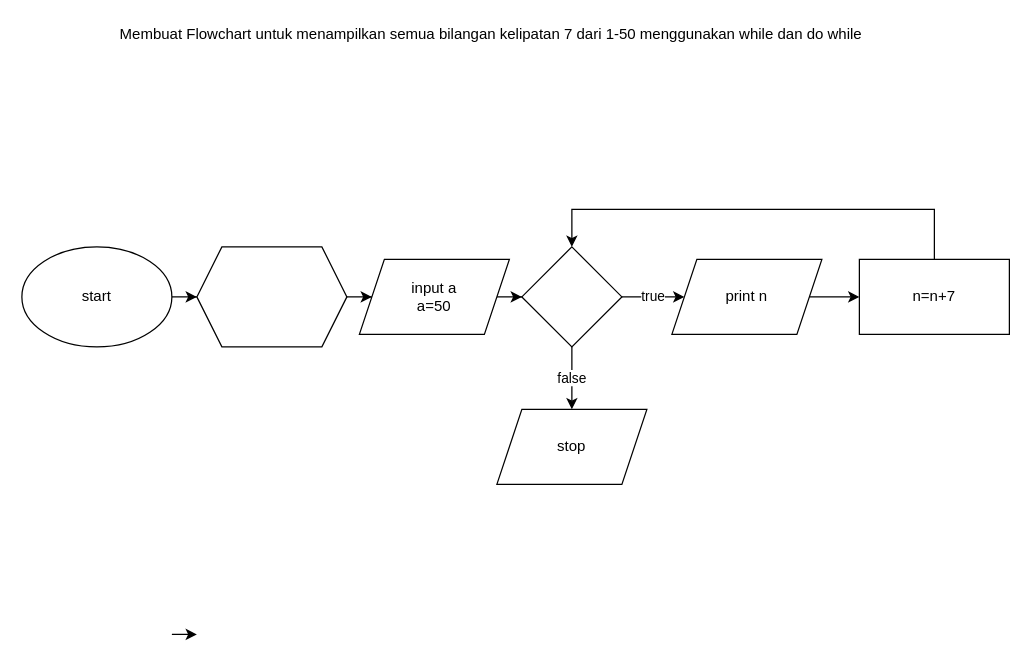
The diagram is 1031 pixels wide and 666 high, and some of its shapes have lost their labels. The shapes that lost their labels are listed below. From the top down, each one's box as (x1, y1, x2, y2) in pixels, then its label:
(196, 246, 347, 347): n=7
(521, 246, 622, 347): if n<=a
